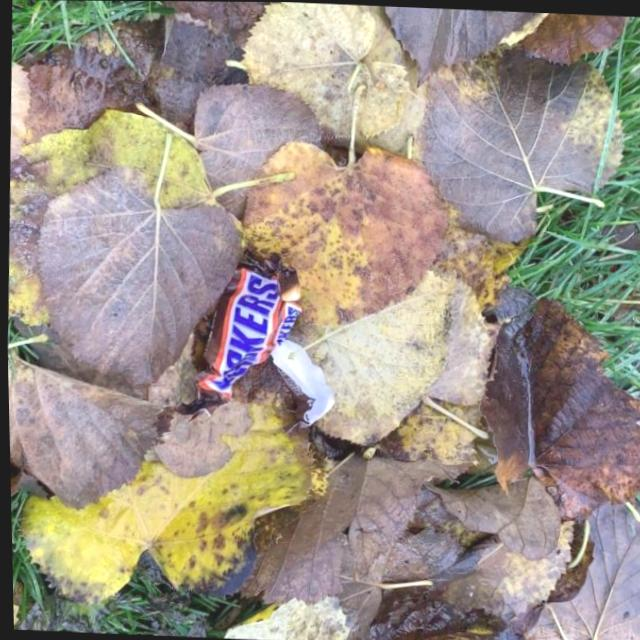Plastic: (177, 241, 342, 442)
